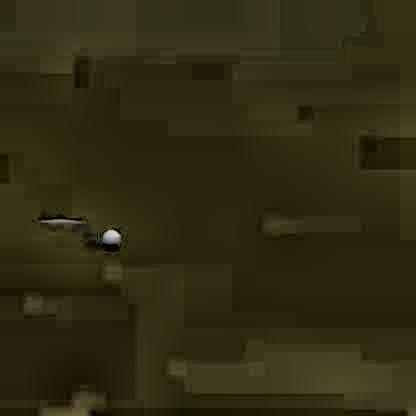golfball: (98, 225, 120, 248)
